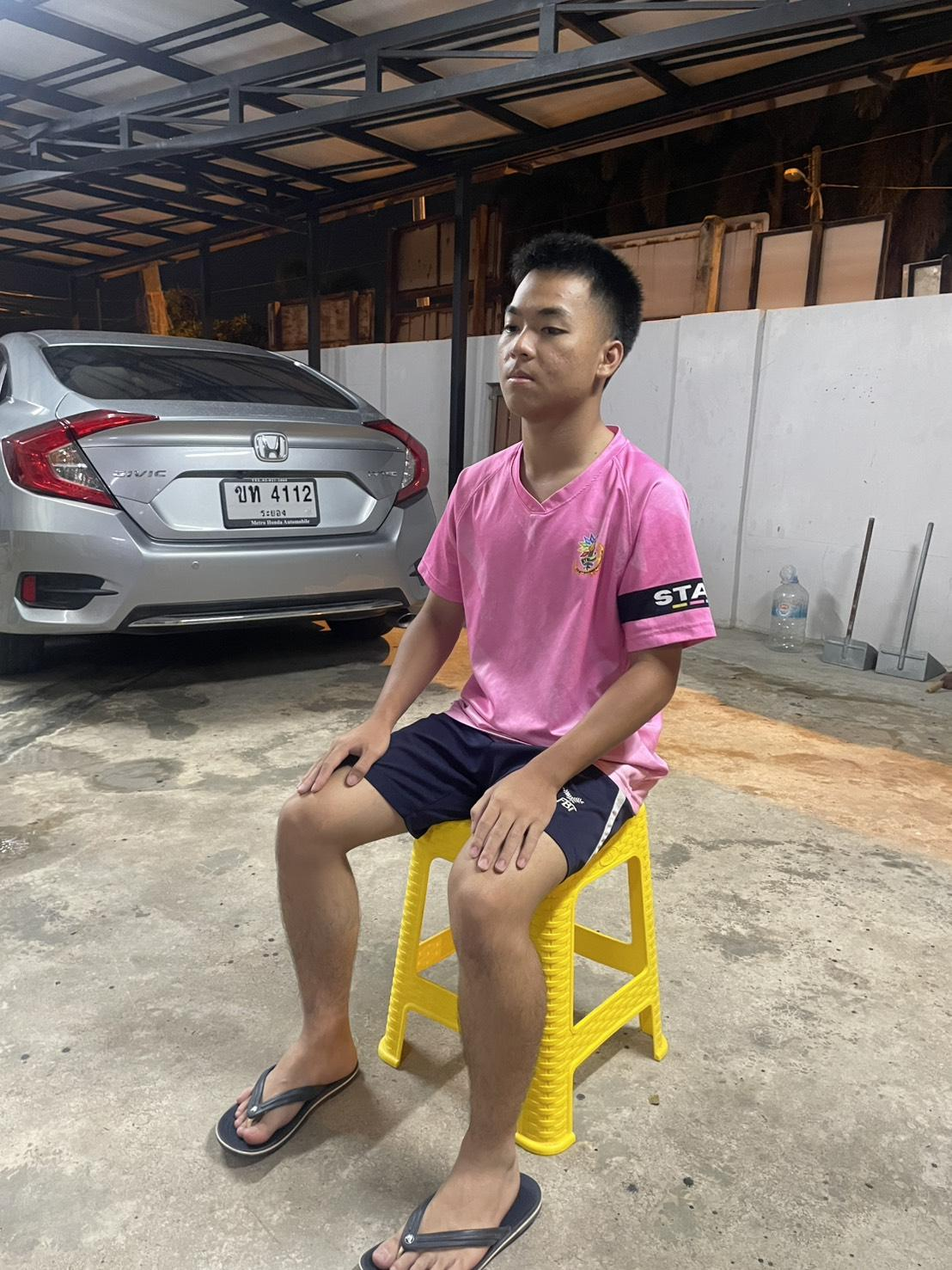GoodPosture: (218, 233, 714, 1269), (393, 233, 715, 793)
